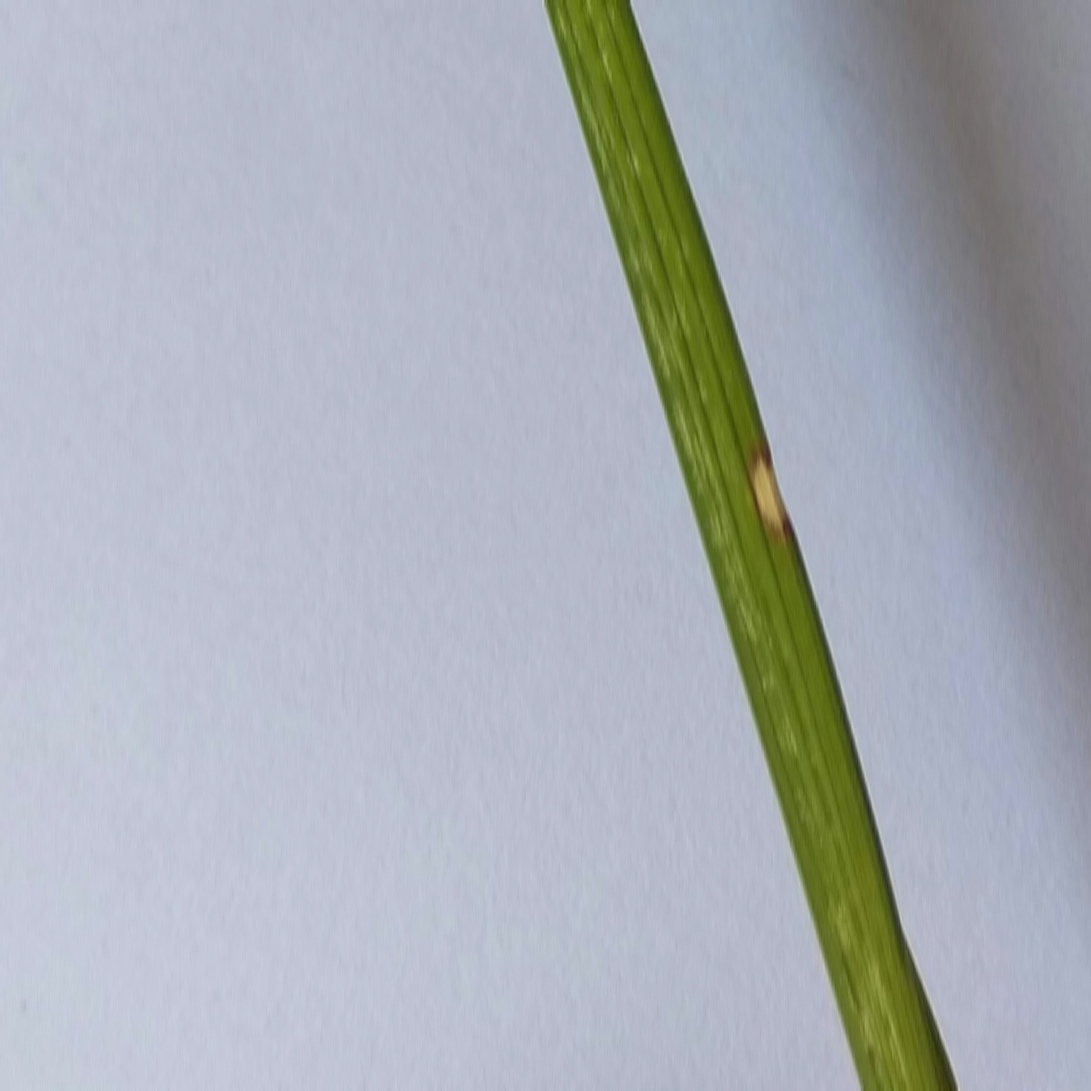Brown_Spot: (724, 427, 820, 566)
